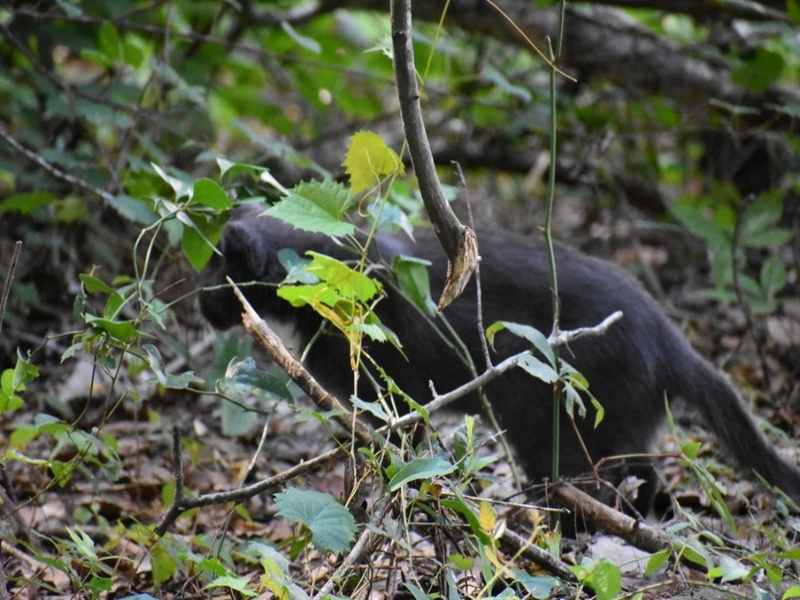cat: (184, 180, 796, 535)
